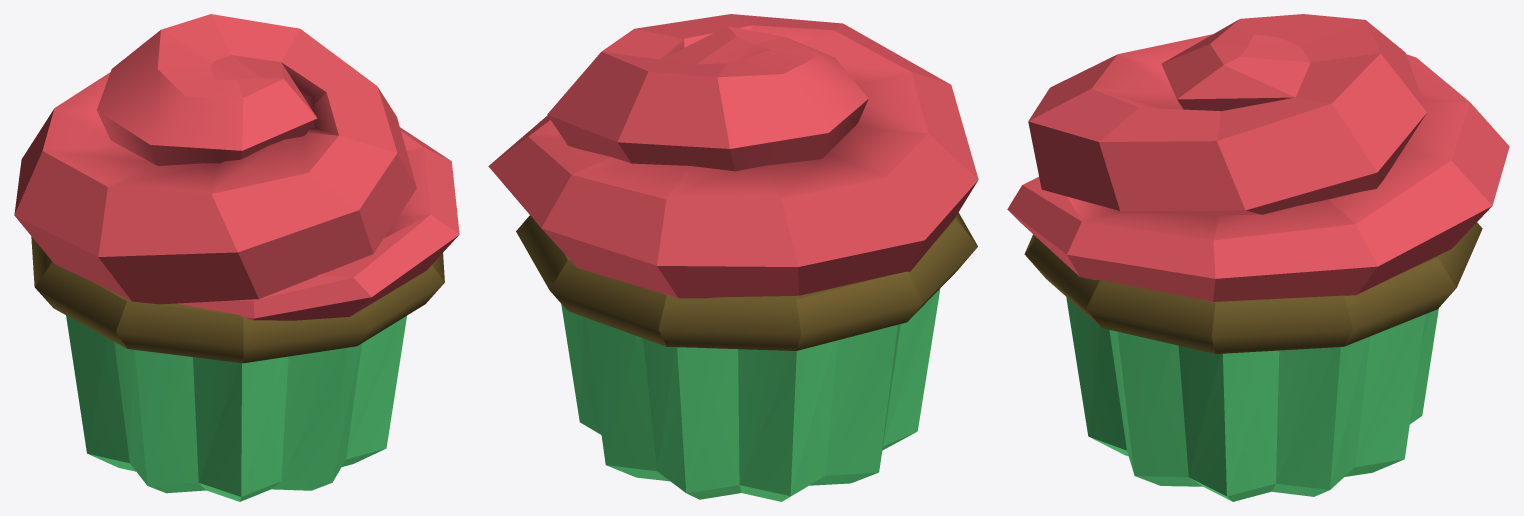
The model's file is korpica sa filom.fbx.
3 views of the same model, side by side, from view 1: azimuth 30°, elevation 25°; view 2: azimuth 150°, elevation 25°; view 3: azimuth 270°, elevation 25° (orthographic). The views are drawn at different scales.
Parts seen in each view (by area): view 1: PW_cupcake_cherry.006; view 2: PW_cupcake_cherry.006; view 3: PW_cupcake_cherry.006.
Boxes of the visible parts, box(x1,y1,x2,y2) form: PW_cupcake_cherry.006: box(14, 14, 459, 501); PW_cupcake_cherry.006: box(488, 14, 978, 501); PW_cupcake_cherry.006: box(1007, 14, 1509, 501).
Bounding box in the file's own units: 19.98 × 18.95 × 20.78.
